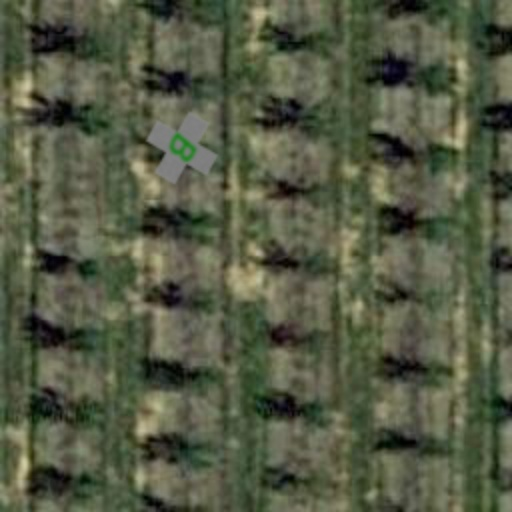cross: (134, 100, 230, 196)
